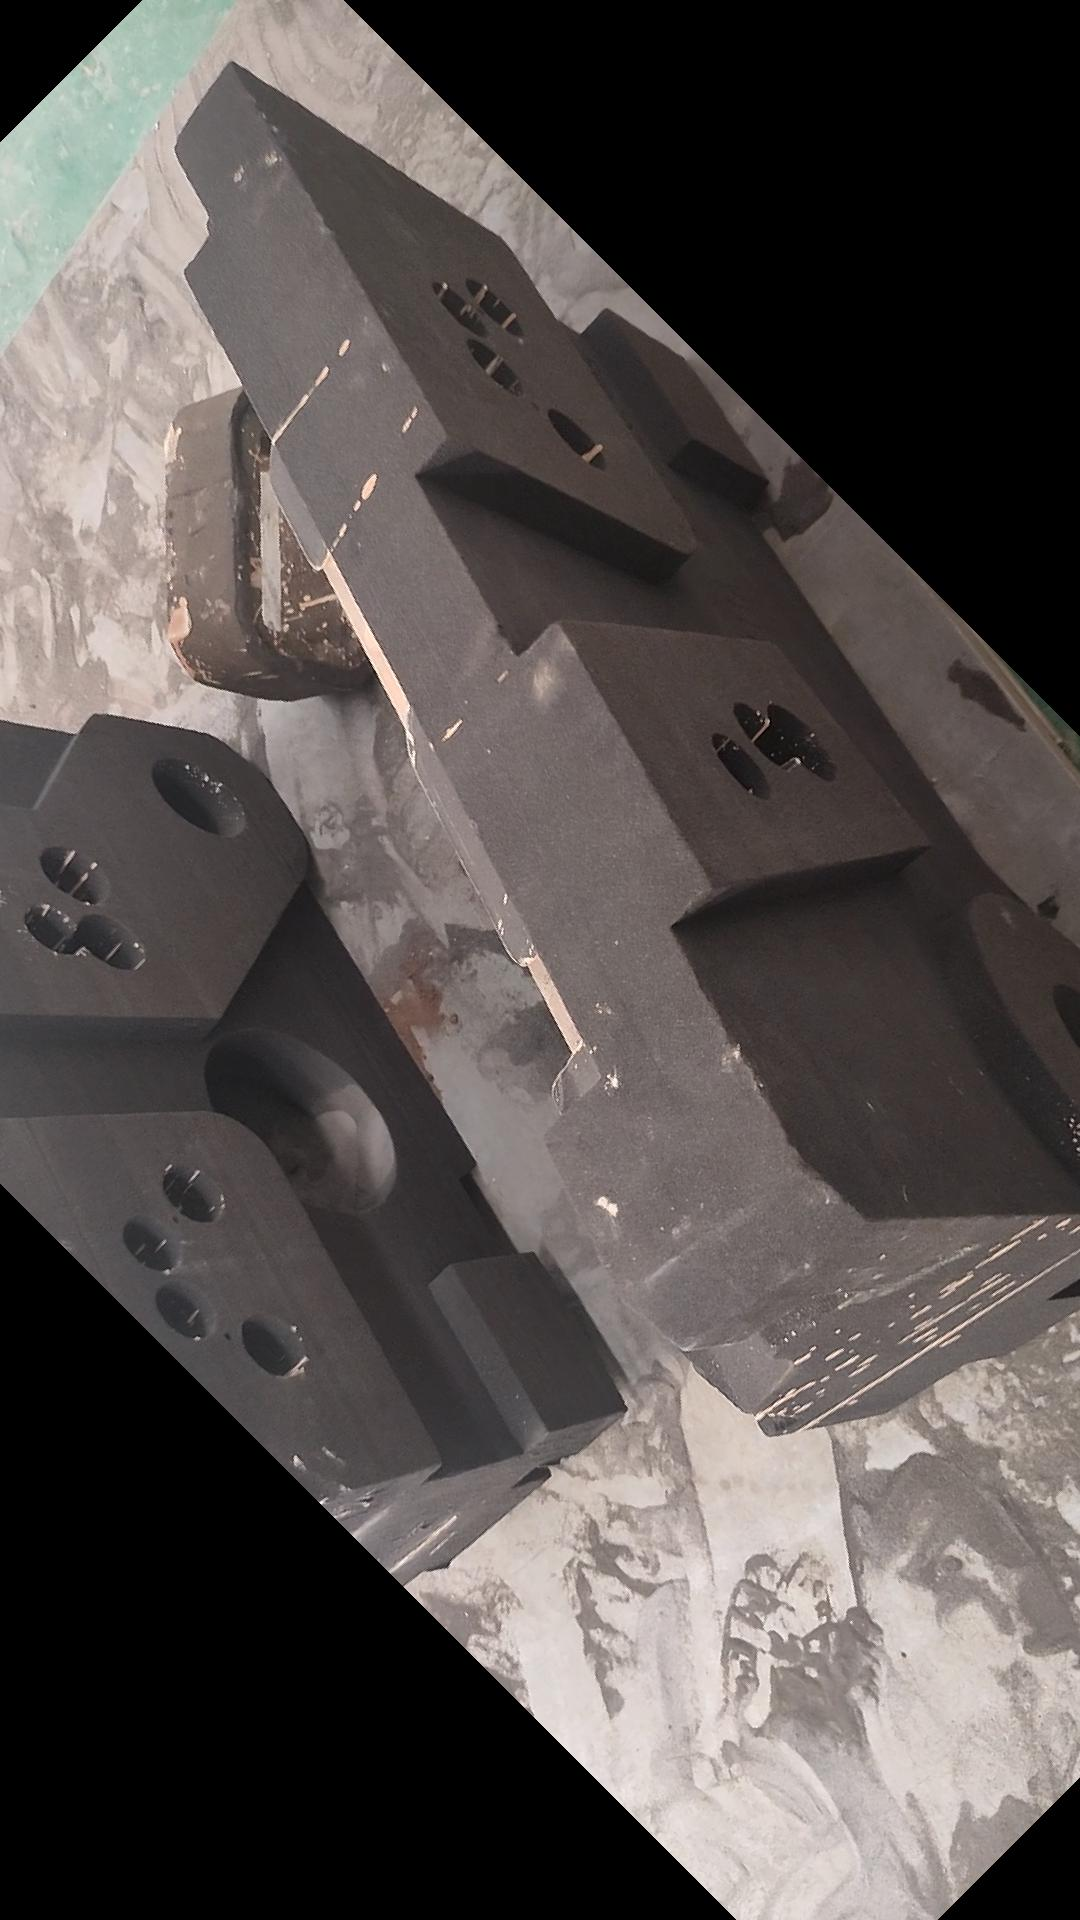pouring hole: (152, 756, 248, 840), (1050, 981, 1080, 1050)
